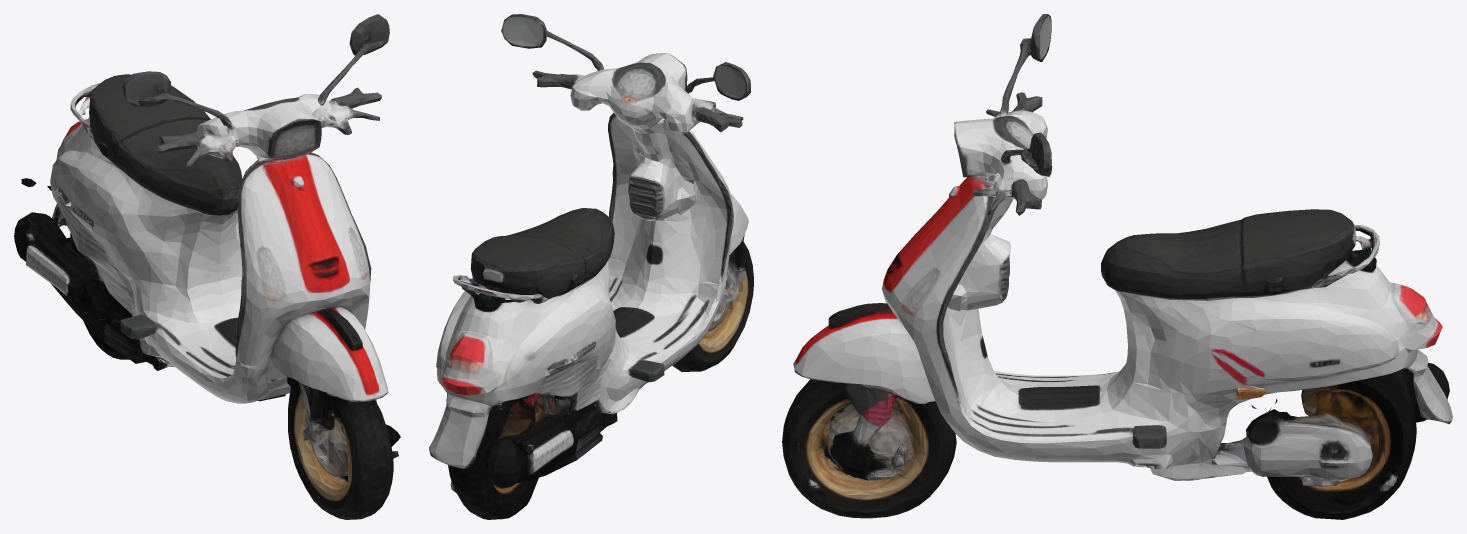
The model's file is VESPA SXL 150.glb.
3 renders of one model, left to right at view 1: azimuth 30°, elevation 25°; view 2: azimuth 150°, elevation 25°; view 3: azimuth 270°, elevation 25°, orthographic. The views are drawn at different scales.
Visible parts, largest first — view 1: world; view 2: world; view 3: world.
Part boxes in pixels (left/top/right/bottom): world: left=14, top=14, right=400, bottom=519; world: left=429, top=14, right=753, bottom=519; world: left=782, top=14, right=1452, bottom=519.
Bounding box in the file's own units: 0.4893 × 0.7181 × 1.
1 material, 1 textured.
